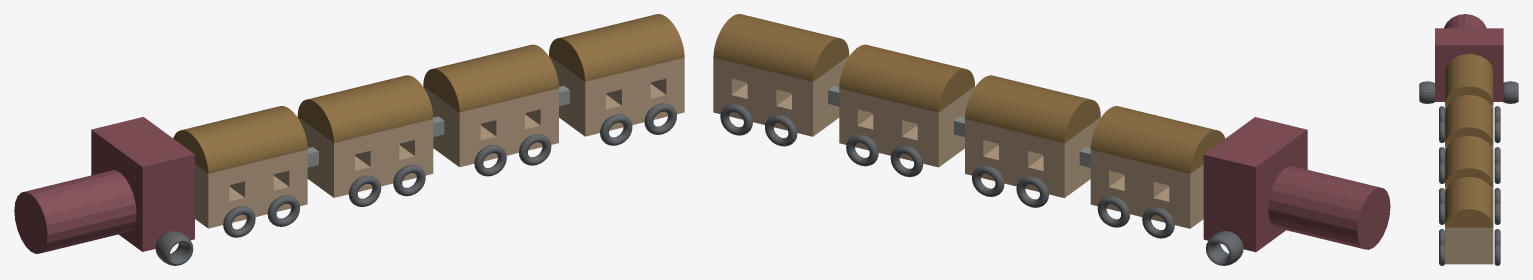
File: Surprising Bigery.glb
3 views of the same model, side by side, from view 1: azimuth 30°, elevation 25°; view 2: azimuth 150°, elevation 25°; view 3: azimuth 270°, elevation 25° (orthographic). The views are drawn at different scales.
Visible parts, largest first — view 1: Mesh_Mesh_head_geo.001_lambert2SG.001; view 2: Mesh_Mesh_head_geo.001_lambert2SG.001; view 3: Mesh_Mesh_head_geo.001_lambert2SG.001.
Boxes of the visible parts, x1=… form: Mesh_Mesh_head_geo.001_lambert2SG.001: x1=14, y1=14, x2=684, y2=265; Mesh_Mesh_head_geo.001_lambert2SG.001: x1=713, y1=14, x2=1390, y2=265; Mesh_Mesh_head_geo.001_lambert2SG.001: x1=1419, y1=14, x2=1518, y2=265.
Size of the model in its own units: 244 by 36 by 49.18.
